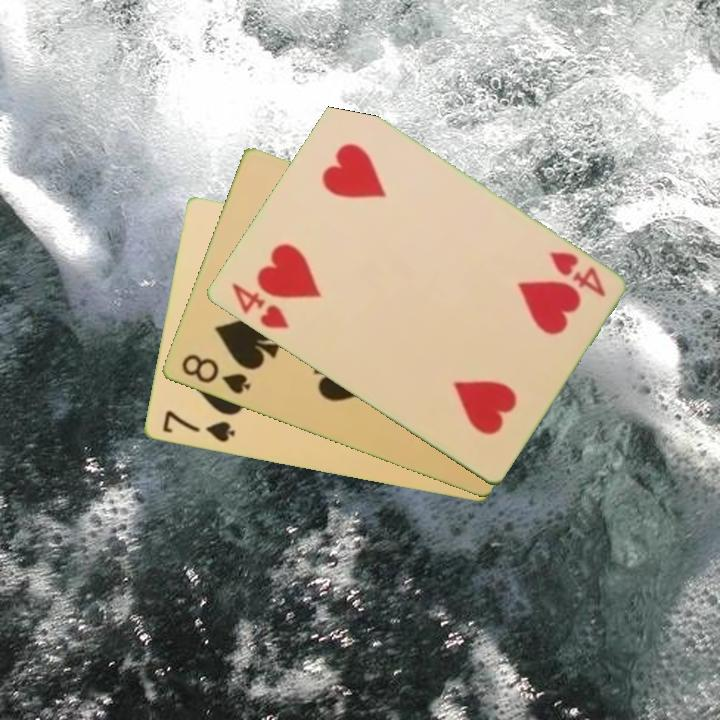4h: (227, 279, 291, 332), (545, 248, 608, 301)
7s: (158, 407, 238, 446)
8s: (177, 350, 253, 398)
